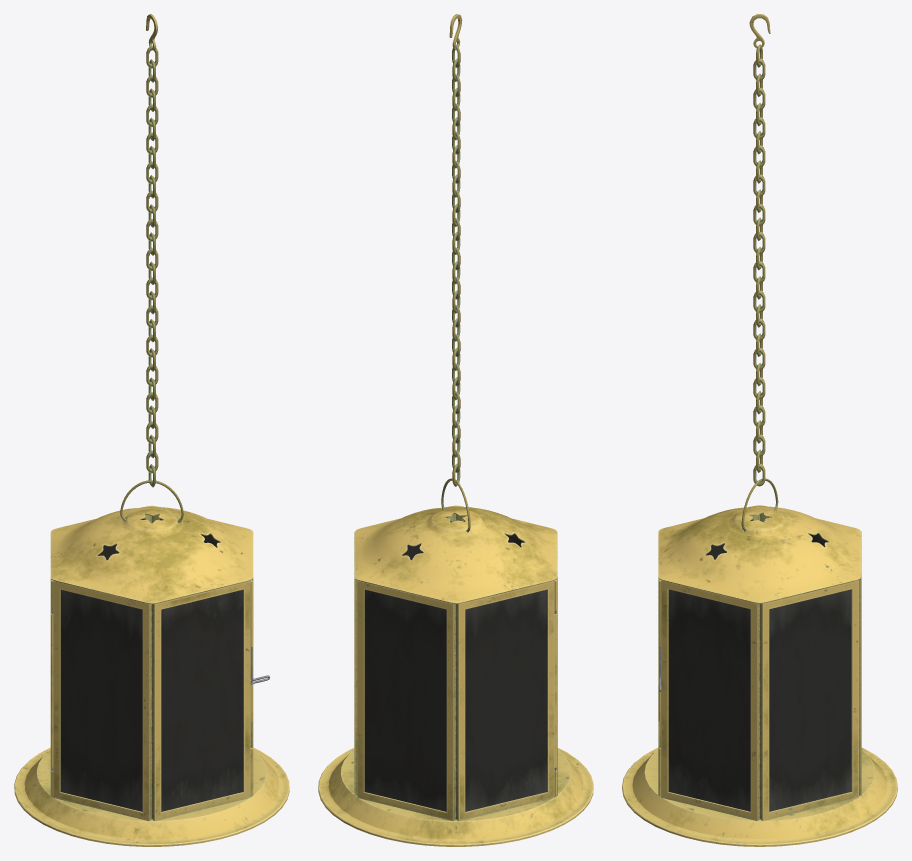
3 renders of one model, left to right at view 1: azimuth 30°, elevation 25°; view 2: azimuth 150°, elevation 25°; view 3: azimuth 270°, elevation 25°, orthographic.
Parts seen in each view (by area): view 1: brass_diya_lantern, brass_diya_lantern_chain; view 2: brass_diya_lantern, brass_diya_lantern_chain; view 3: brass_diya_lantern, brass_diya_lantern_chain.
Boxes of the visible parts, bbox=[...] form: brass_diya_lantern: bbox=[14, 505, 289, 846]; brass_diya_lantern_chain: bbox=[146, 14, 158, 487]; brass_diya_lantern: bbox=[318, 505, 593, 846]; brass_diya_lantern_chain: bbox=[449, 14, 462, 486]; brass_diya_lantern: bbox=[622, 505, 897, 846]; brass_diya_lantern_chain: bbox=[749, 14, 770, 486].
Size of the model in its own units: 0.123 by 0.3808 by 0.123.
Materials: 3 (3 with a texture image).
